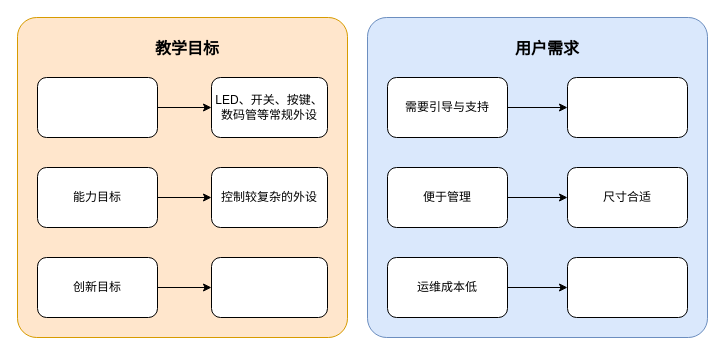
The diagram is 725 pixels wide and 355 high, and some of its shapes have lost their labels. Each missing label, with the box of its shape:
价格低: (566, 256, 688, 318)
基础目标: (36, 76, 158, 138)
提供易上手的外设: (566, 76, 688, 138)
预留可拓展的接口: (210, 256, 328, 318)
